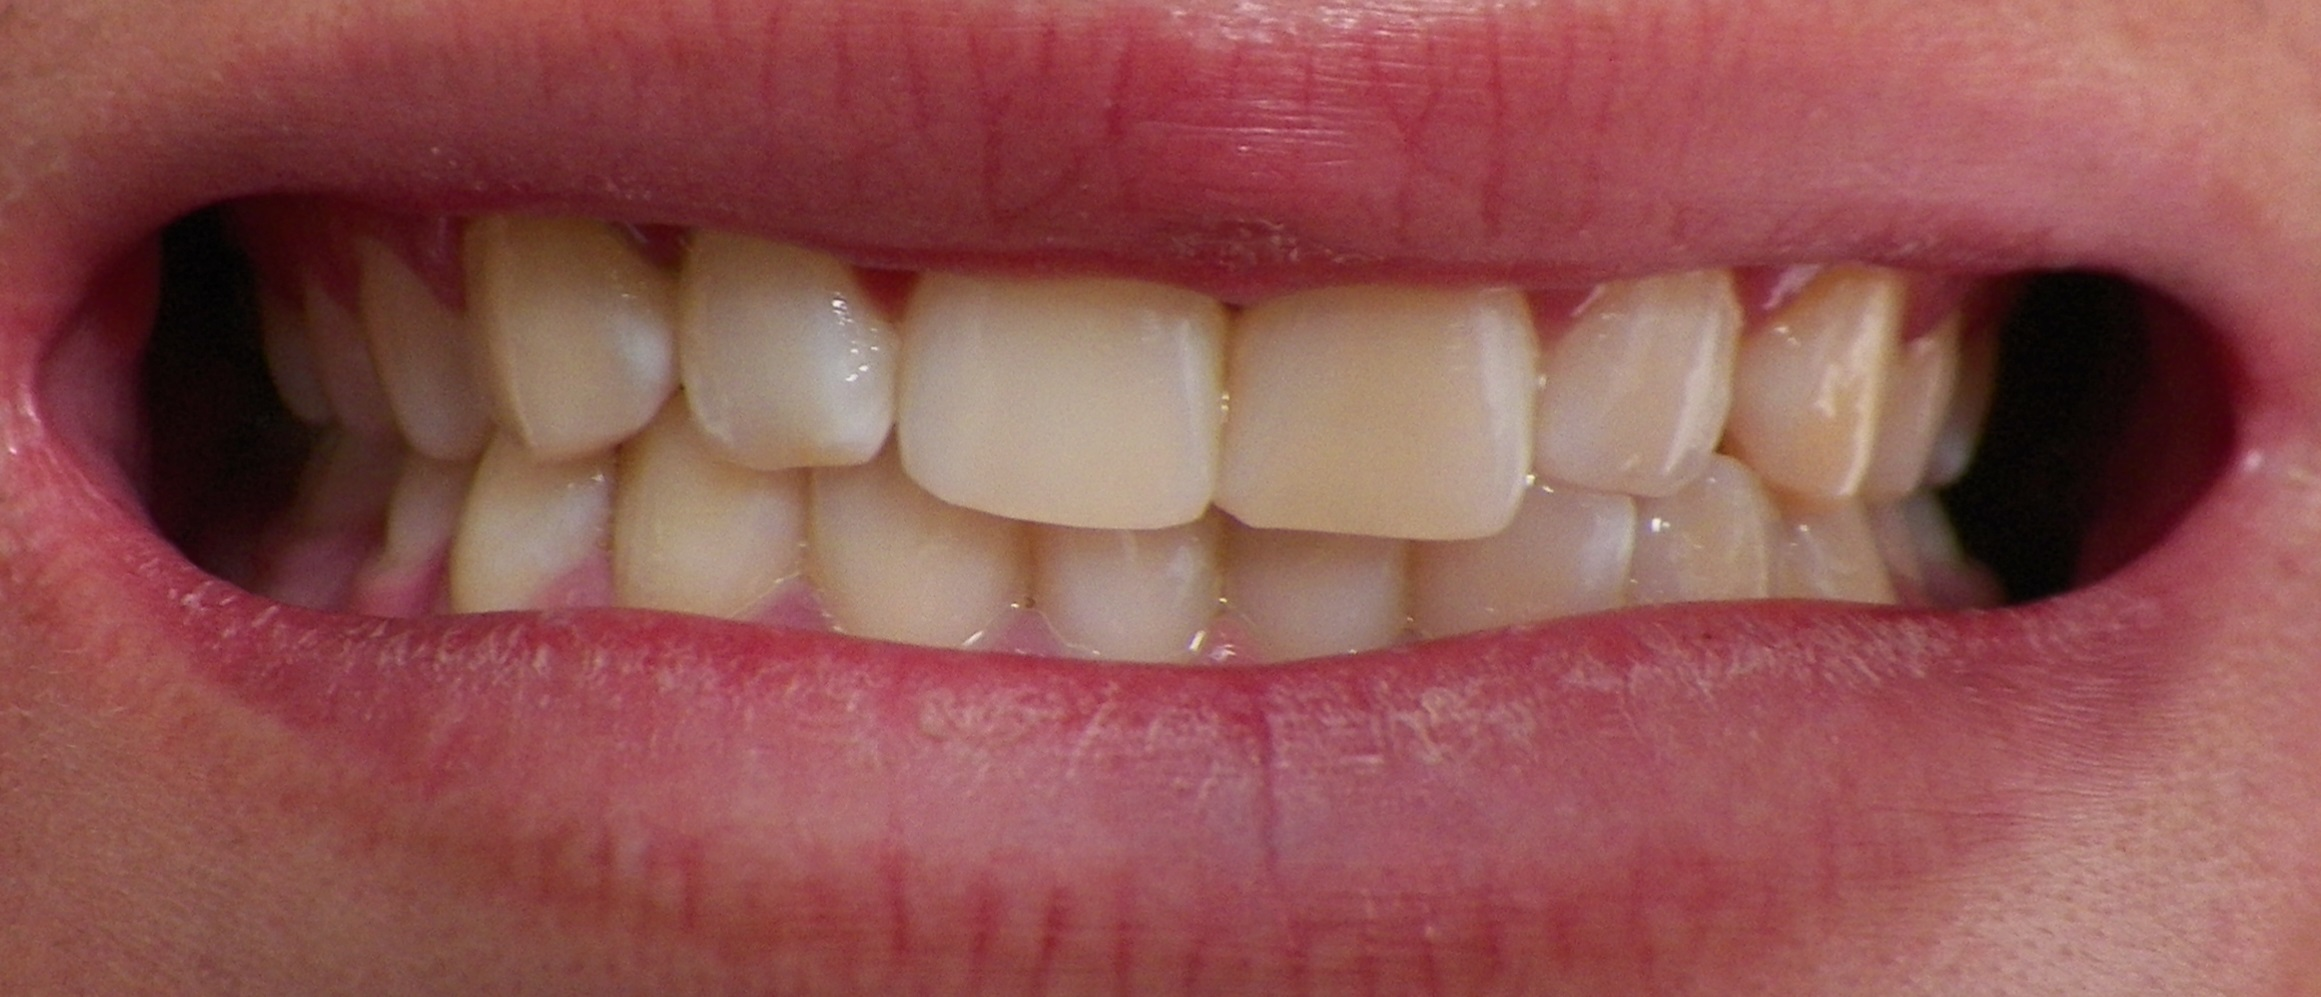boca: (255, 253, 2026, 632)
